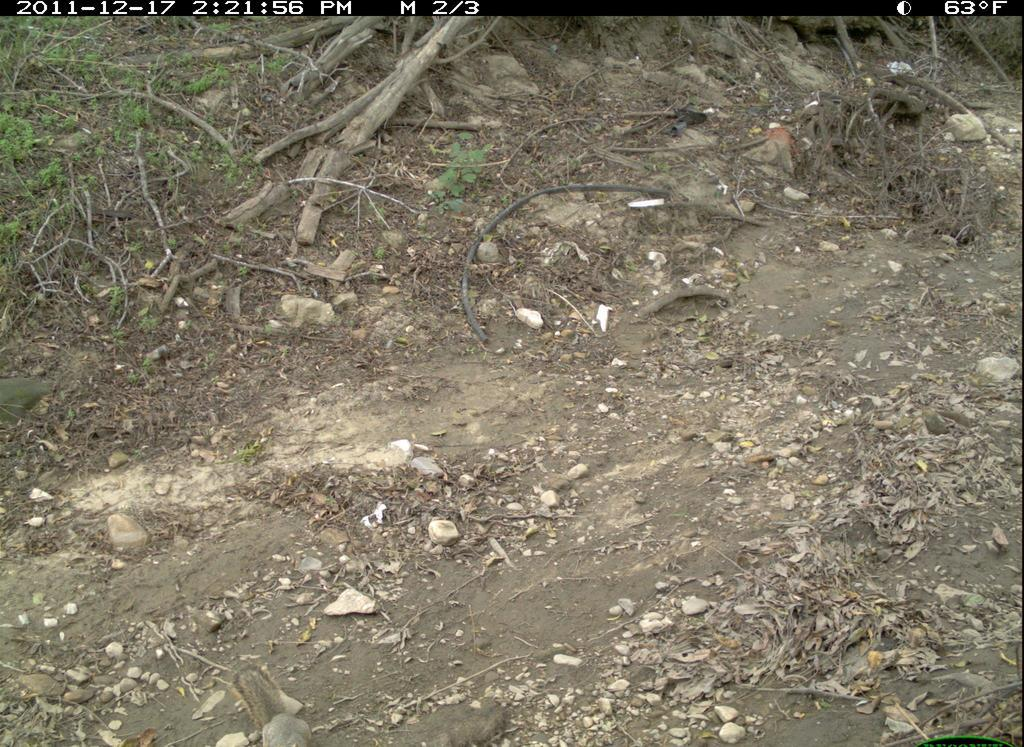squirrel: (230, 664, 310, 740)
